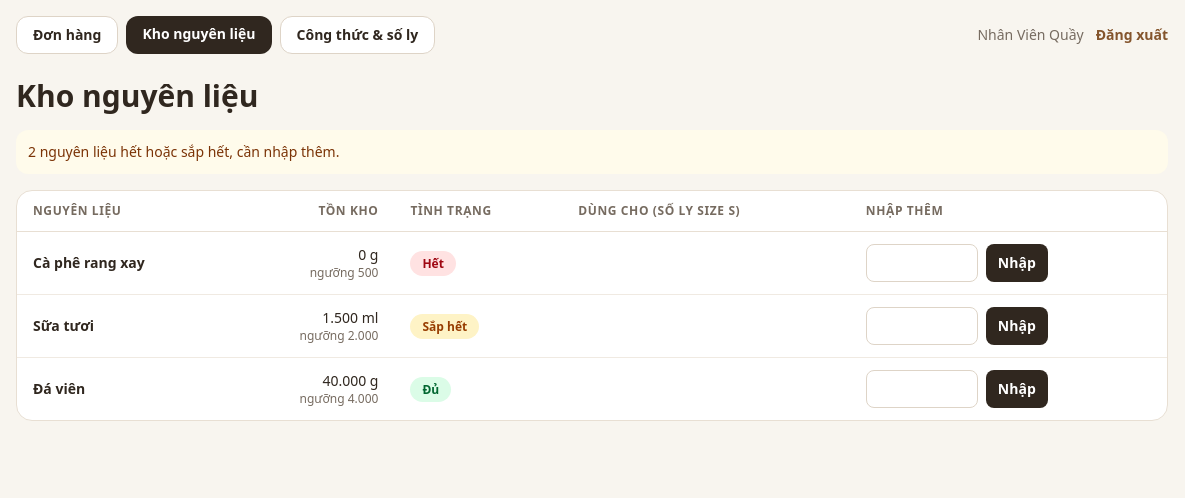
Test case: Trang kho nguyên liệu /staff/ingredients (FR-17) › nhập thêm gửi PATCH restock và cập nhật tồn kho, cờ
The width and height of the screenshot is (1185, 498).
Type "1000" into the number field named "Số lượng nhập Cà phê rang xay" at (922, 263), box [866, 244, 978, 282]
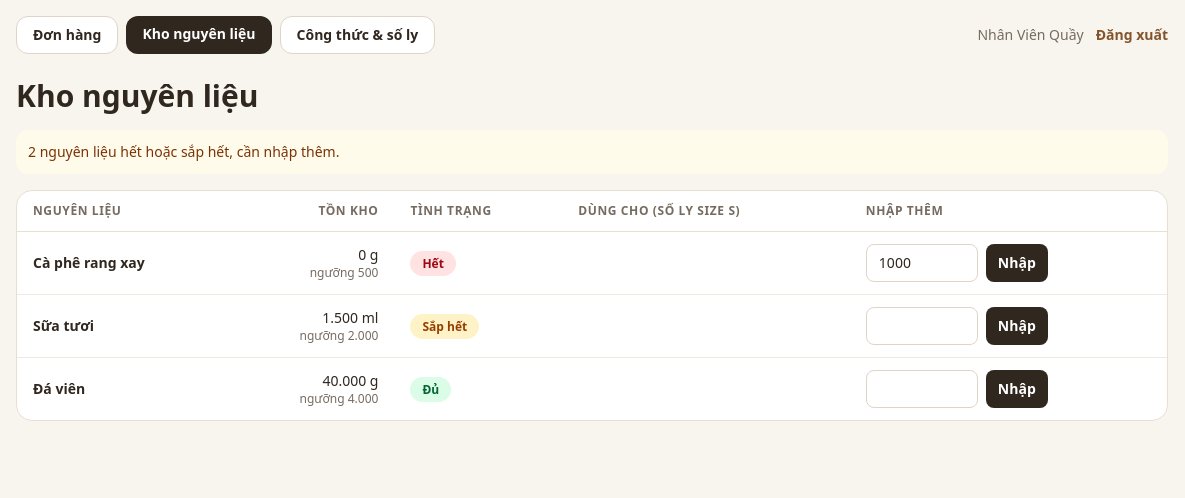
Click the button "Nhập" in the row of "Cà phê rang xay" at (1017, 263), box [986, 244, 1048, 282]
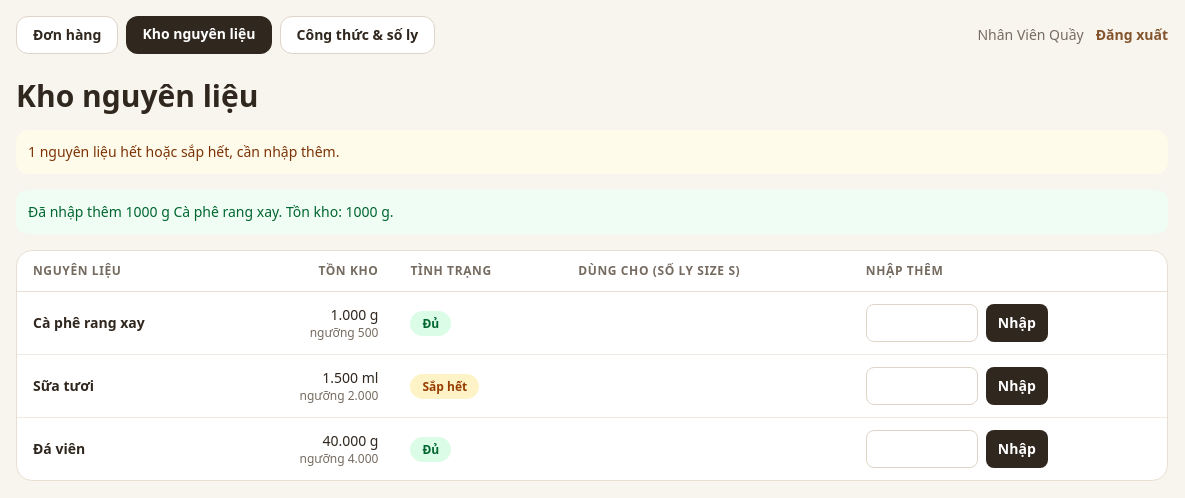
Expected: the text "Đã nhập thêm 1000 g Cà phê rang xay. Tồn kho: 1000 g." is shown, [16, 190, 1168, 234]
